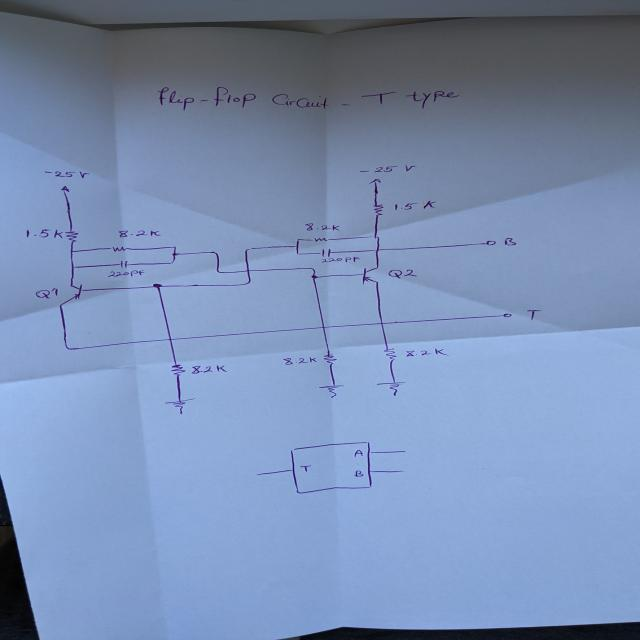capacitor: (317, 248, 333, 257), (117, 260, 130, 269)
crossover: (378, 320, 387, 326), (167, 336, 174, 342), (319, 325, 328, 329), (244, 268, 252, 272), (374, 248, 382, 252)
ground: (162, 397, 196, 415), (374, 381, 408, 396), (318, 384, 346, 398)
junction: (151, 283, 163, 288), (310, 274, 318, 280), (243, 280, 251, 285), (170, 252, 180, 256), (210, 250, 219, 254), (68, 249, 76, 253), (215, 270, 223, 274), (244, 247, 252, 251), (64, 346, 72, 350), (168, 260, 175, 264), (370, 236, 379, 239), (295, 238, 301, 242), (293, 245, 299, 248), (69, 266, 77, 268), (295, 252, 300, 255), (310, 267, 315, 270), (171, 246, 178, 248)
resistor: (169, 363, 187, 376), (382, 347, 397, 362), (322, 353, 338, 365), (371, 203, 384, 217), (64, 230, 79, 242), (107, 245, 131, 252), (310, 237, 331, 242)
source: (368, 177, 383, 185), (59, 185, 71, 192)
terminal: (398, 467, 408, 475), (485, 240, 496, 246), (252, 471, 261, 478), (399, 448, 409, 454), (502, 312, 512, 318)
text: (155, 85, 461, 112), (357, 163, 417, 174), (392, 199, 437, 211), (23, 228, 64, 240), (42, 170, 91, 180), (403, 347, 450, 357), (117, 229, 162, 238), (303, 222, 342, 232), (190, 364, 228, 374), (386, 268, 419, 279), (33, 286, 60, 299), (282, 356, 317, 366), (106, 269, 146, 277), (320, 256, 360, 263), (526, 309, 542, 320), (502, 237, 518, 246), (350, 448, 364, 458), (299, 464, 313, 473), (352, 469, 364, 478)
transistor: (58, 284, 84, 306), (361, 266, 382, 285)
